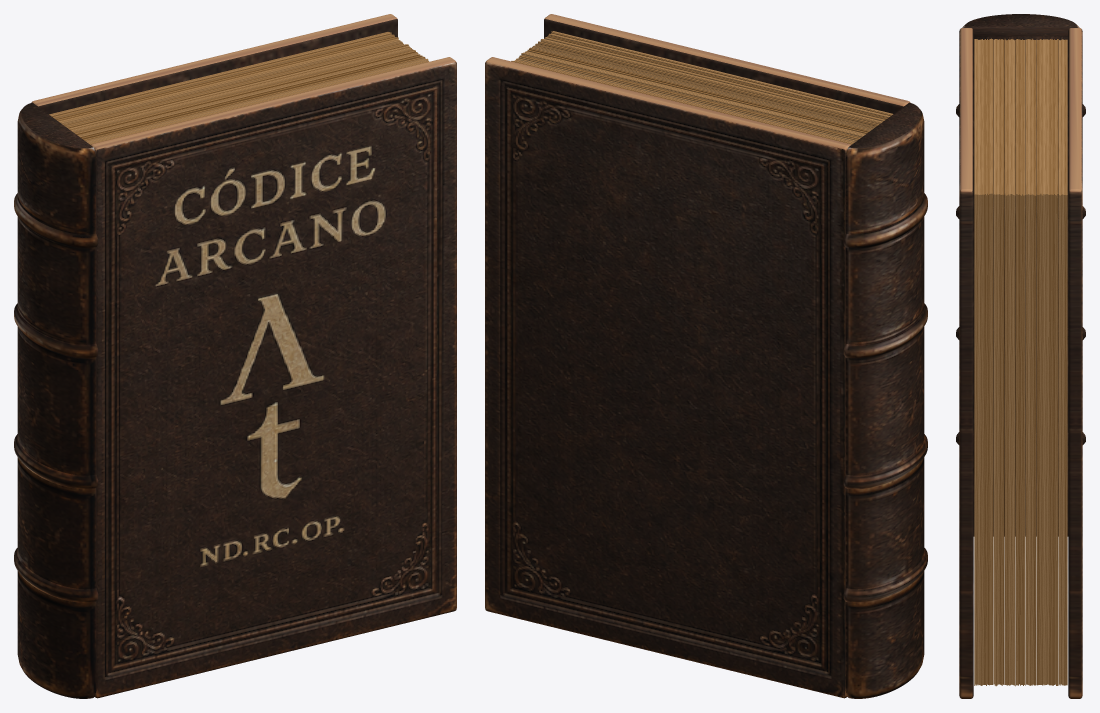
File: Codice_Arcano_TLBD.fbx
The picture shows the model from 3 angles, left to right: view 1: azimuth 30°, elevation 25°; view 2: azimuth 150°, elevation 25°; view 3: azimuth 270°, elevation 25°; orthographic projection. The views are drawn at different scales.
Parts seen in each view (by area): view 1: Tapa_frontal, Lomo_con_nervios, Bloque_de_hojas, Contratapa; view 2: Contratapa, Lomo_con_nervios, Bloque_de_hojas, Tapa_frontal; view 3: Bloque_de_hojas, Contratapa, Tapa_frontal, Lomo_con_nervios.
Boxes of the visible parts, x1,y1,x2,y2 form: Tapa_frontal: (91, 57, 456, 698); Lomo_con_nervios: (14, 102, 98, 698); Bloque_de_hojas: (49, 32, 428, 144); Contratapa: (31, 14, 397, 114); Contratapa: (485, 57, 850, 698); Lomo_con_nervios: (843, 102, 927, 698); Bloque_de_hojas: (511, 31, 893, 144); Tapa_frontal: (544, 14, 910, 113); Bloque_de_hojas: (974, 38, 1067, 686); Contratapa: (1068, 28, 1082, 698); Tapa_frontal: (959, 28, 973, 698); Lomo_con_nervios: (956, 14, 1085, 536).
Size of the model in its own units: 0.2409 by 0.32 by 0.0738.
2 materials, 2 textured.
